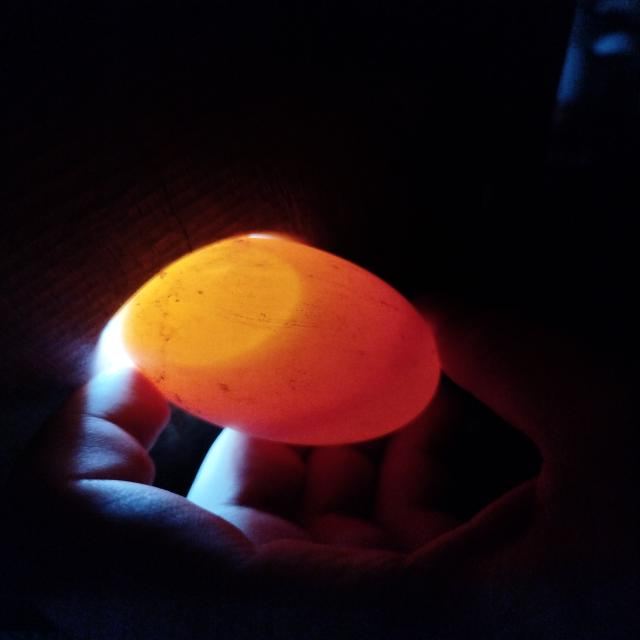Camara de Ar: (121, 239, 297, 361)
Gema Quebrada: (137, 239, 441, 446)
